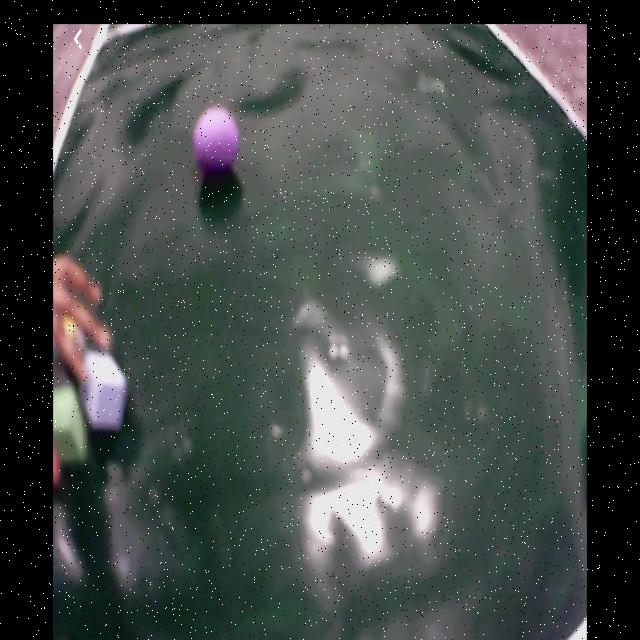ball: (192, 109, 238, 172)
